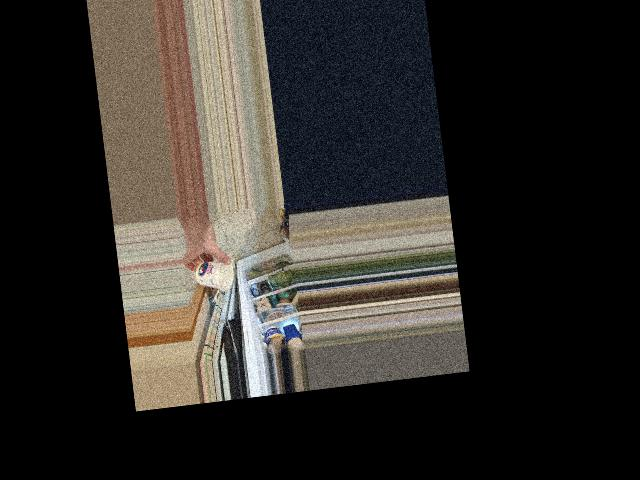cotage: (193, 255, 234, 293)
